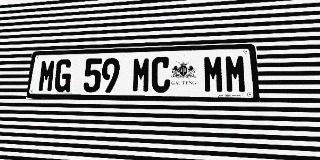5: (83, 58, 102, 92)
9: (101, 58, 120, 92)
C: (151, 56, 171, 93)
G: (53, 59, 73, 92)
M: (224, 54, 247, 93), (203, 55, 225, 93), (131, 57, 151, 93), (37, 59, 56, 92)
